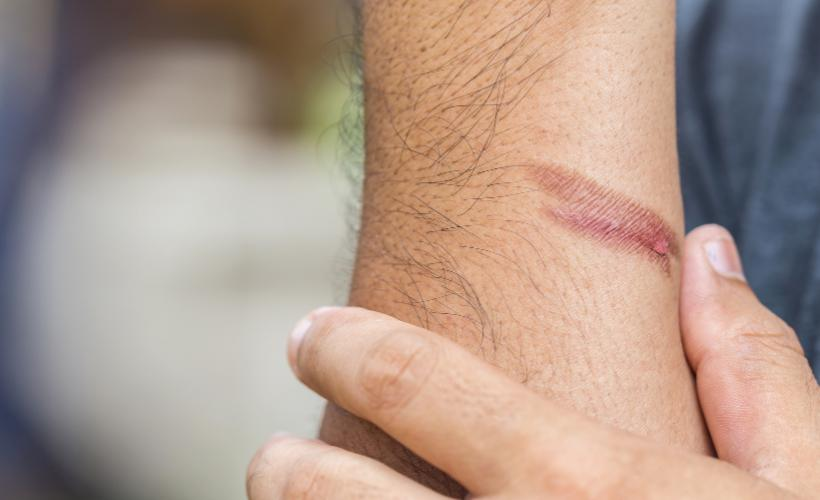burned-skin: (511, 132, 684, 285)
